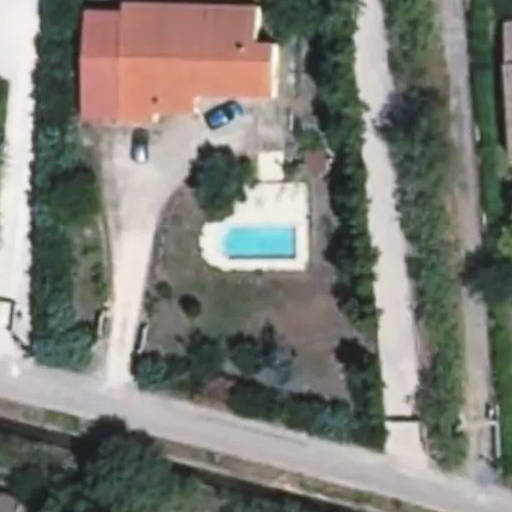pool: (215, 226, 295, 258)
